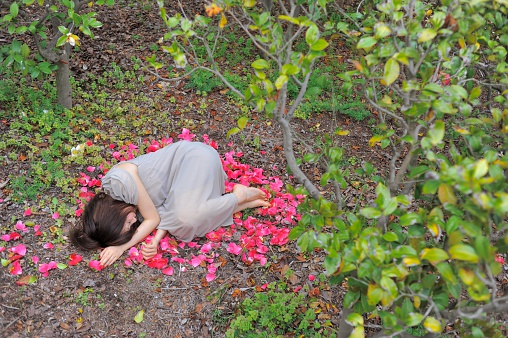deitado: (85, 124, 263, 253)
